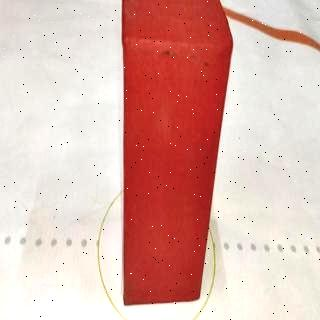redbox: (122, 1, 235, 308)
